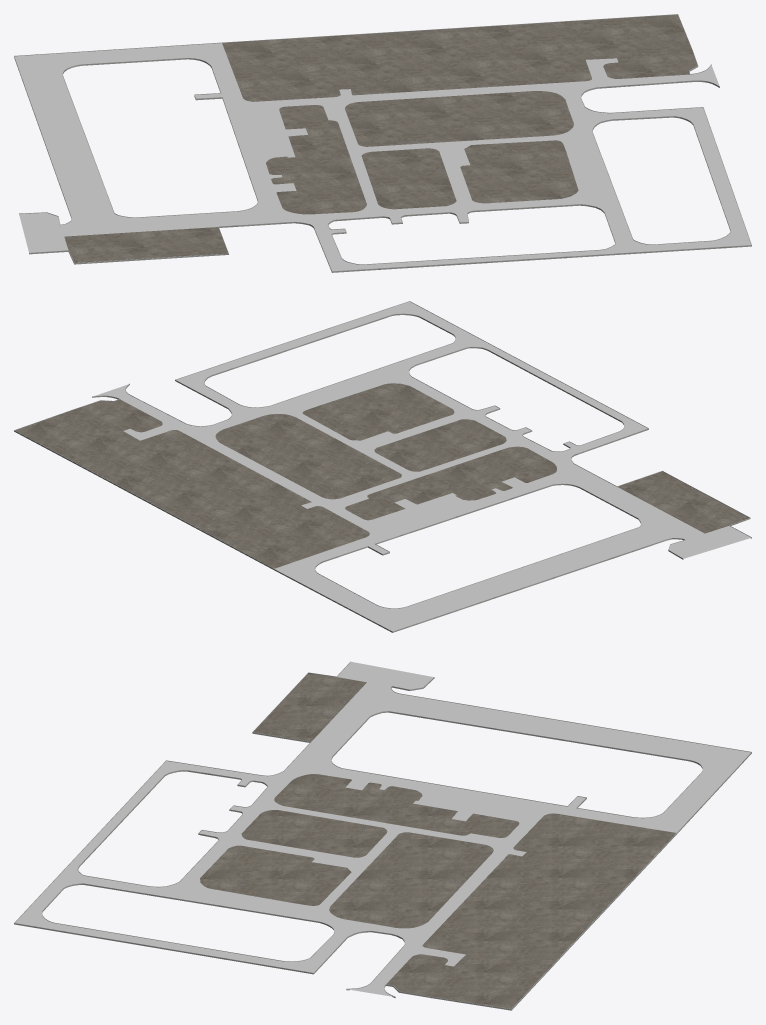
Rendered from road_p01_02.fbx.
The picture shows the model from 3 angles, top to bottom: view 1: azimuth 30°, elevation 25°; view 2: azimuth 150°, elevation 25°; view 3: azimuth 270°, elevation 25°; orthographic projection. The views are drawn at different scales.
Parts seen in each view (by area): view 1: road_p01_02; view 2: road_p01_02; view 3: road_p01_02.
Boxes of the visible parts, x1=… form: road_p01_02: x1=14, y1=14, x2=751, y2=272; road_p01_02: x1=14, y1=301, x2=751, y2=632; road_p01_02: x1=14, y1=661, x2=751, y2=1010.
Size of the model in its own units: 37605 by 69.97 by 33699.
